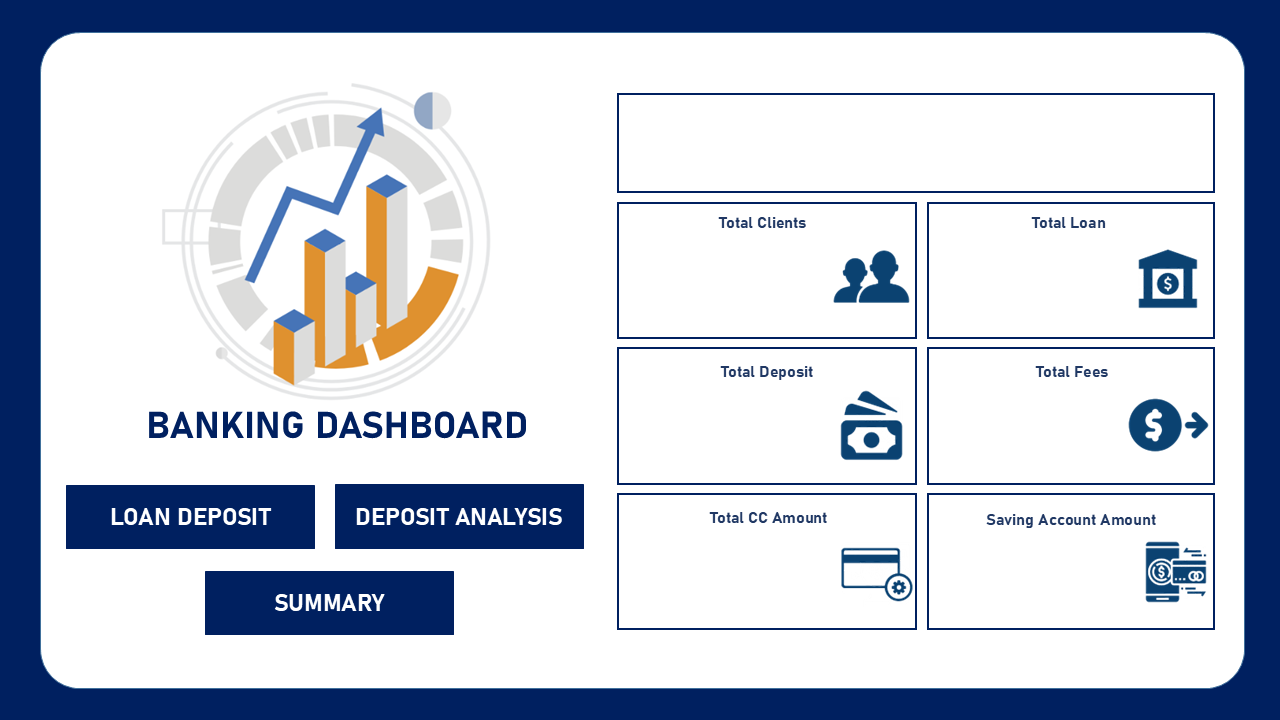

The page's visual inventory and layout, read from the dashboard file:
{"tool":"powerbi","page":{"name":"Home","canvas":[1920,1080],"ordinal":0},"visuals":[{"type":"cardVisual","fields":{"Data":["Dax_Measres.Total Clients"]},"box":[1004.4,349.3,257,157.4],"z":0},{"type":"cardVisual","fields":{"Data":["Dax_Measres.Total Loan"]},"box":[1402.5,349.3,273.3,157.4],"z":1000},{"type":"cardVisual","fields":{"Data":["Dax_Measres.Total Deposit"]},"box":[1004.4,566.4,249.7,155.6],"z":2000},{"type":"cardVisual","fields":{"Data":["Dax_Measres.Total Fees"]},"box":[1402.5,566.4,273.3,133.9],"z":3000},{"type":"cardVisual","fields":{"Data":["Dax_Measres.Total CC Amount"]},"box":[1004.4,798.1,257,124.9],"z":4000},{"type":"cardVisual","fields":{"Data":["Dax_Measres.Savings Account"]},"box":[1402.5,794.4,296.8,135.7],"z":5000},{"type":"slicer","fields":{"Values":["banking_risk gender.Gender"]},"box":[929.9,143.2,893.6,143.2],"z":6000}]}

Visuals, with their boxes in screenshot pixels (x1, y1, x2, y2), scaled from the page's 1920x1080 canvas onto the 1280x720 screenshot:
cardVisual - Dax_Measres.Total Clients: Rect(670, 233, 841, 338)
cardVisual - Dax_Measres.Total Loan: Rect(935, 233, 1117, 338)
cardVisual - Dax_Measres.Total Deposit: Rect(670, 378, 836, 481)
cardVisual - Dax_Measres.Total Fees: Rect(935, 378, 1117, 467)
cardVisual - Dax_Measres.Total CC Amount: Rect(670, 532, 841, 615)
cardVisual - Dax_Measres.Savings Account: Rect(935, 530, 1133, 620)
slicer - banking_risk gender.Gender: Rect(620, 95, 1216, 191)
